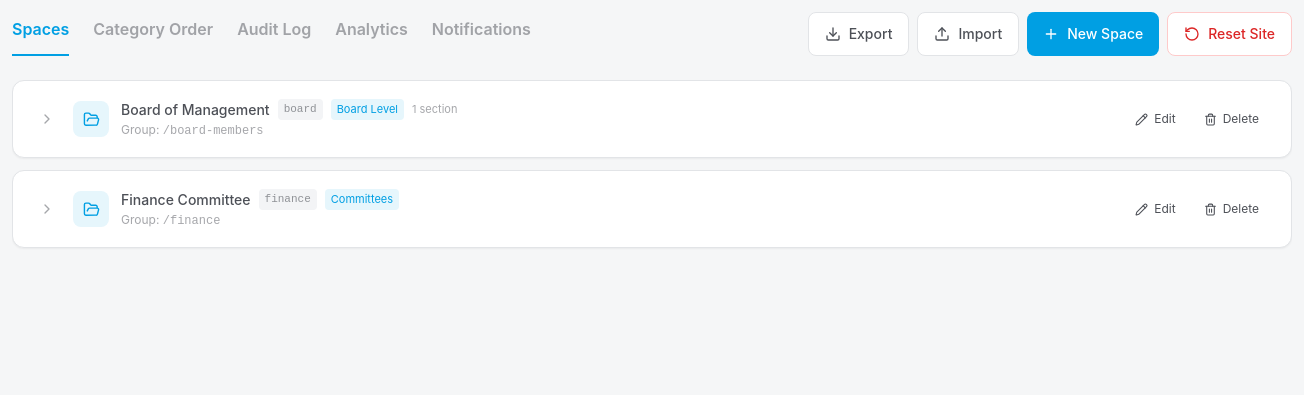
Scenario: AdminShell › expands a space to show its sections and the add-section action
Click the button named "Expand" next to "Board of Management" at {"x": 47, "y": 119}, box [33, 97, 61, 141]
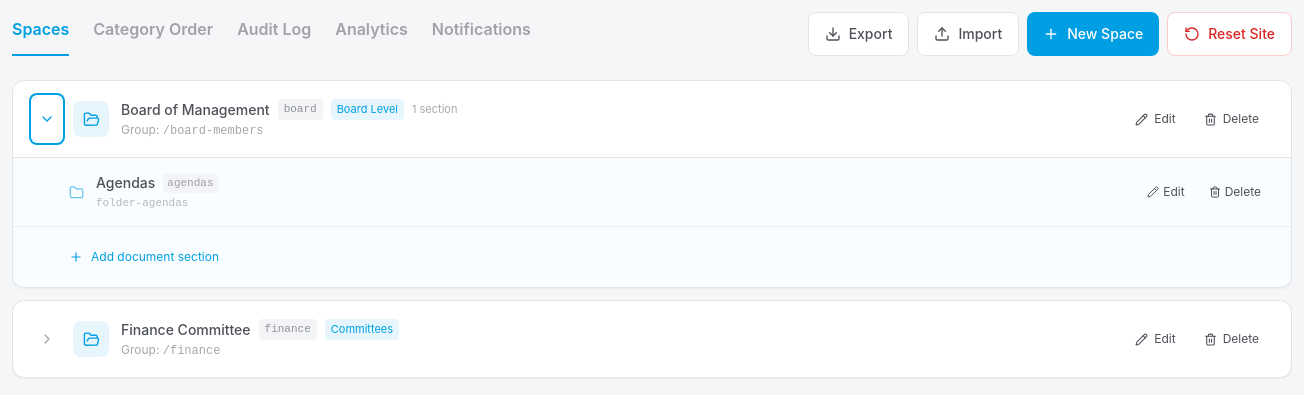
Now the text "Agendas" is shown, box [96, 173, 155, 193]
Now the text "folder-agendas" is shown, box [96, 197, 188, 209]
Now the button "Add document section" is shown, box [69, 239, 219, 275]
